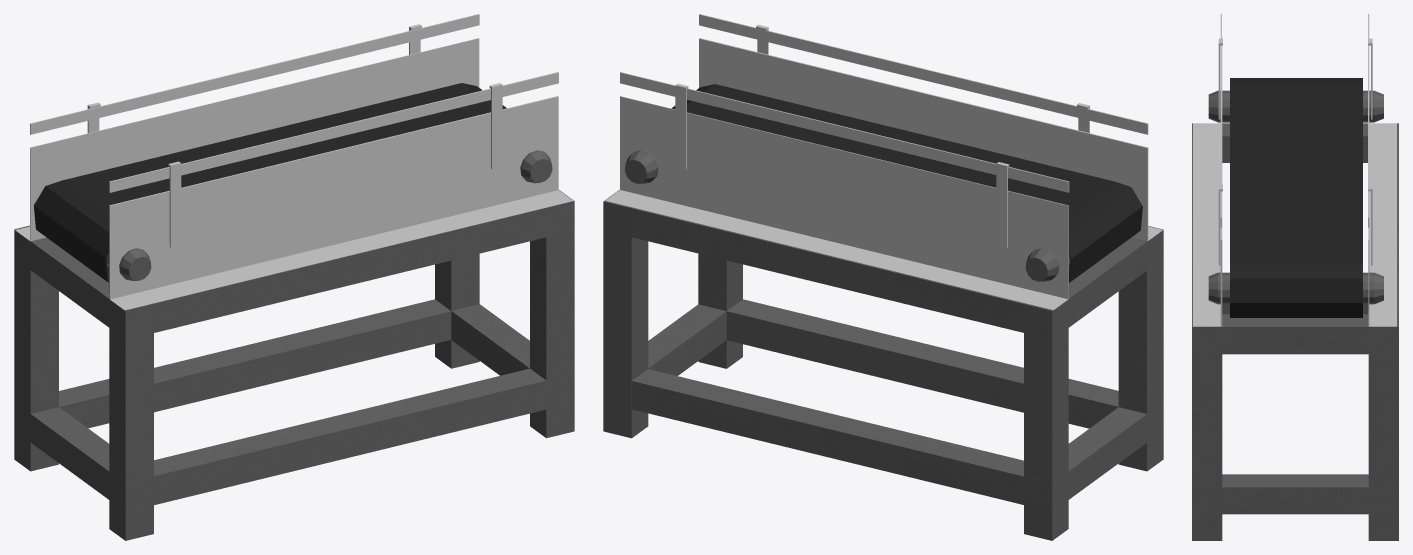
The model's file is SM_3D_ConveyerBelt1.fbx.
3 renders of one model, left to right at view 1: azimuth 30°, elevation 25°; view 2: azimuth 150°, elevation 25°; view 3: azimuth 270°, elevation 25°, orthographic. The views are drawn at different scales.
Parts seen in each view (by area): view 1: Plane.006, Plane.003, Plane.015, Cylinder.005, Cylinder.001, Cylinder.002; view 2: Plane.006, Plane.015, Plane.003, Cylinder.005, Cylinder.001, Cylinder.002; view 3: Cylinder.005, Plane.006, Plane.003, Plane.015, Cylinder.002, Cylinder.001.
Part boxes in pixels (box(x1,y1,x2,y2)): Plane.006: box(14, 190, 574, 540); Plane.003: box(109, 72, 573, 310); Plane.015: box(15, 14, 479, 241); Cylinder.005: box(33, 83, 506, 282); Cylinder.001: box(106, 248, 151, 280); Cylinder.002: box(520, 150, 552, 183); Plane.006: box(603, 189, 1163, 540); Plane.015: box(605, 72, 1069, 309); Plane.003: box(699, 14, 1162, 241); Cylinder.005: box(671, 84, 1142, 282); Cylinder.001: box(1025, 248, 1070, 281); Cylinder.002: box(624, 150, 658, 183); Cylinder.005: box(1230, 78, 1362, 317); Plane.006: box(1192, 123, 1398, 540); Plane.003: box(1193, 14, 1222, 326); Plane.015: box(1368, 14, 1396, 326); Cylinder.002: box(1208, 272, 1383, 304); Cylinder.001: box(1208, 90, 1383, 122).
Bounding box in the file's own units: 1463 × 1089 × 628.
